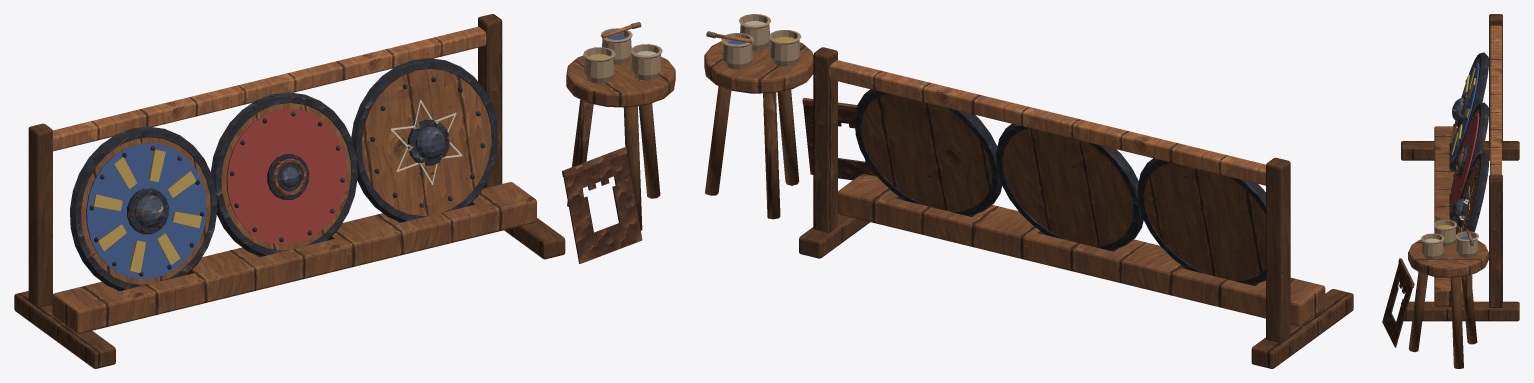
Rendered from hs_paint_rack.glb.
3 renders of one model, left to right at view 1: azimuth 30°, elevation 25°; view 2: azimuth 150°, elevation 25°; view 3: azimuth 270°, elevation 25°, orthographic. The views are drawn at different scales.
Parts seen in each view (by area): view 1: model; view 2: model; view 3: model.
Boxes of the visible parts, x1,y1,x2,y2 form: model: (14, 14, 675, 368); model: (704, 14, 1353, 368); model: (1382, 14, 1519, 368).
Bounding box in the file's own units: 2.16 × 0.6576 × 0.5789.
15 materials, 7 textured.
